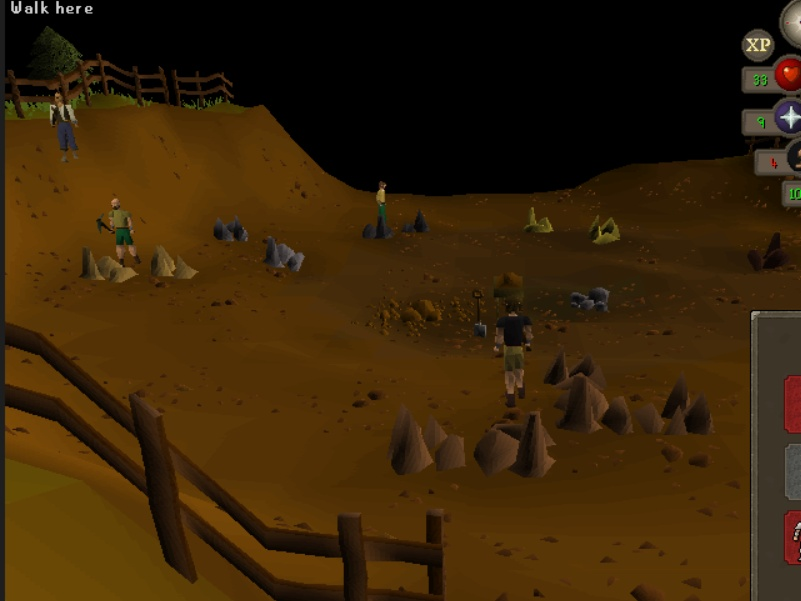clay: (72, 243, 143, 291), (146, 240, 200, 287)
copper: (377, 395, 473, 485), (465, 395, 561, 485), (547, 371, 642, 434), (636, 378, 731, 441)
gold: (520, 202, 563, 239), (581, 210, 624, 247)
iron: (742, 224, 796, 274)
tin: (254, 236, 314, 276), (208, 213, 257, 248)
